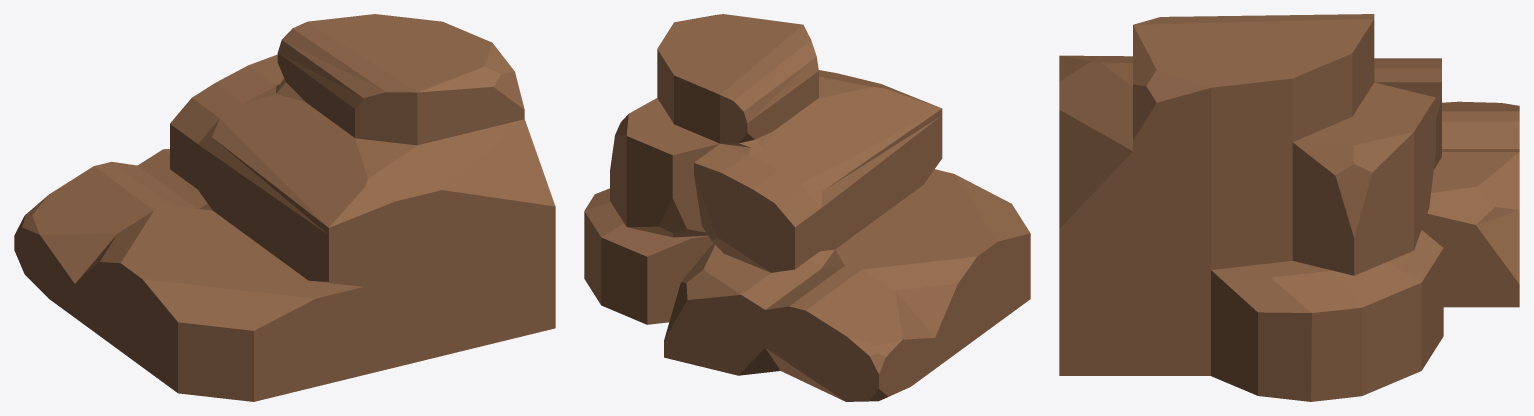
File: stones01_dirt.fbx
3 renders of one model, left to right at view 1: azimuth 30°, elevation 25°; view 2: azimuth 150°, elevation 25°; view 3: azimuth 270°, elevation 25°, orthographic. The views are drawn at different scales.
Parts seen in each view (by area): view 1: stones01_dirt_LOD0; view 2: stones01_dirt_LOD0; view 3: stones01_dirt_LOD0.
Part boxes in pixels (box(x1,y1,x2,y2)): stones01_dirt_LOD0: box(14, 14, 555, 401); stones01_dirt_LOD0: box(584, 14, 1030, 401); stones01_dirt_LOD0: box(1059, 14, 1519, 401).
Size of what is drawn, in the model's own units: 174 by 101 by 146.
